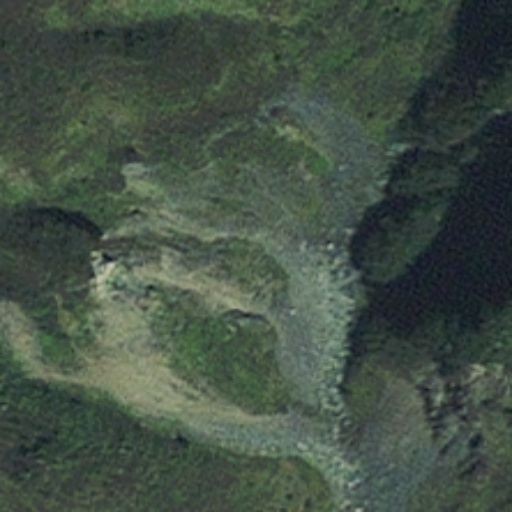landslide: (40, 258, 208, 439)
